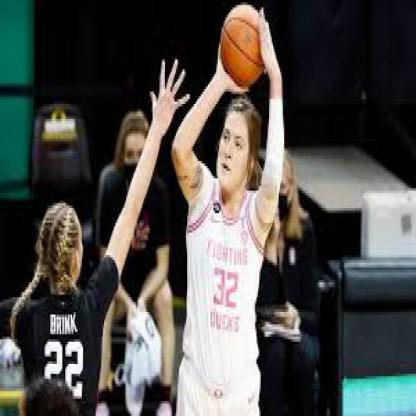basketball: (220, 5, 269, 89)
